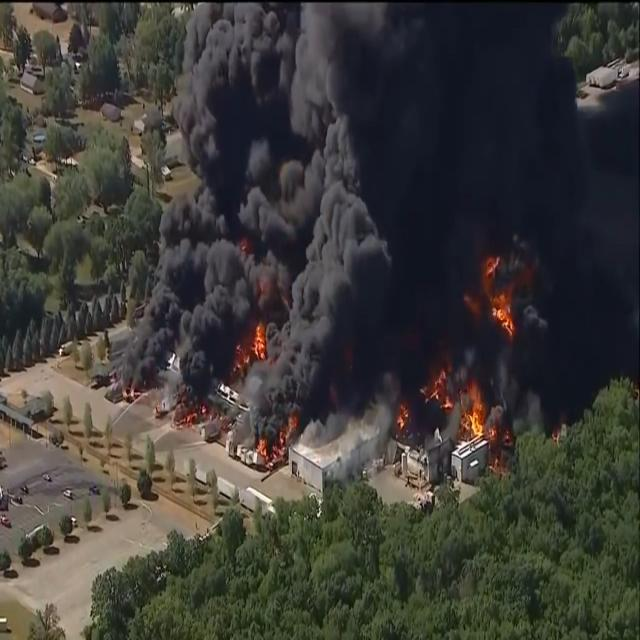Fire: (421, 364, 499, 441), (476, 248, 532, 339), (230, 321, 268, 374), (257, 416, 299, 461)
Smoke: (123, 0, 401, 444), (376, 0, 586, 420)
